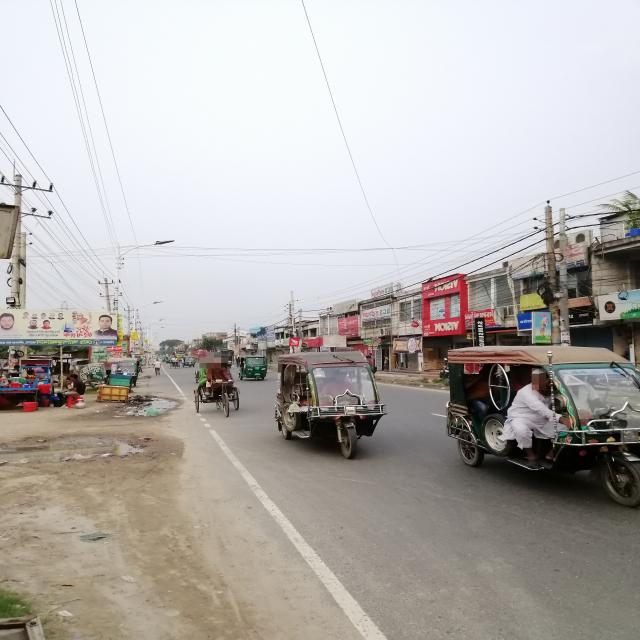Easybike: (434, 343, 640, 506), (277, 353, 398, 460)
